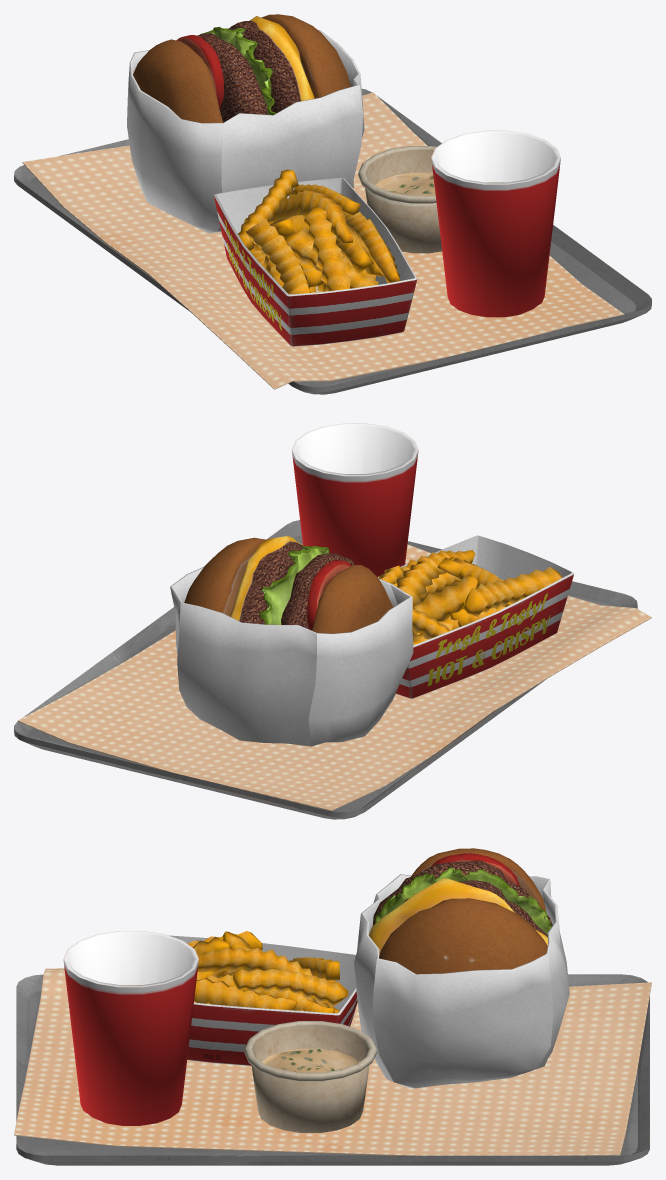
The model's file is combo-1.glb.
3 renders of one model, top to bottom at view 1: azimuth 30°, elevation 25°; view 2: azimuth 150°, elevation 25°; view 3: azimuth 270°, elevation 25°, orthographic. The views are drawn at different scales.
Parts seen in each view (by area): view 1: Plate, PaperBag, Cup, Hamburger, FriesBox, Fries, Sauce; view 2: Plate, PaperBag, Cup, Hamburger, FriesBox, Fries; view 3: Plate, PaperBag, Cup, Hamburger, Sauce, Fries, FriesBox.
Part boxes in pixels (box(x1,y1,x2,y2)): Plate: box(14, 88, 651, 394); PaperBag: box(127, 30, 364, 233); Cup: box(431, 130, 560, 317); Hamburger: box(133, 14, 351, 123); FriesBox: box(214, 177, 417, 346); Fries: box(238, 169, 400, 324); Sauce: box(358, 146, 442, 253); Plate: box(14, 520, 651, 819); PaperBag: box(170, 567, 413, 746); Cup: box(292, 423, 418, 576); Hamburger: box(184, 536, 392, 633); FriesBox: box(378, 535, 574, 698); Fries: box(379, 550, 562, 645); Plate: box(14, 968, 651, 1165); PaperBag: box(354, 874, 569, 1088); Cup: box(63, 931, 198, 1125); Hamburger: box(368, 848, 552, 974); Sauce: box(244, 1021, 377, 1132); Fries: box(187, 931, 348, 1013); FriesBox: box(168, 935, 357, 1065).
Bounding box in the file's own units: 22.21 × 10.68 × 31.39.
Materials: 6 (6 with a texture image).
